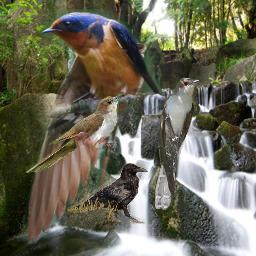Crow: (67, 163, 148, 224)
Cuckoo: (25, 93, 125, 173), (153, 76, 203, 210)
Swallow: (22, 9, 171, 245)
